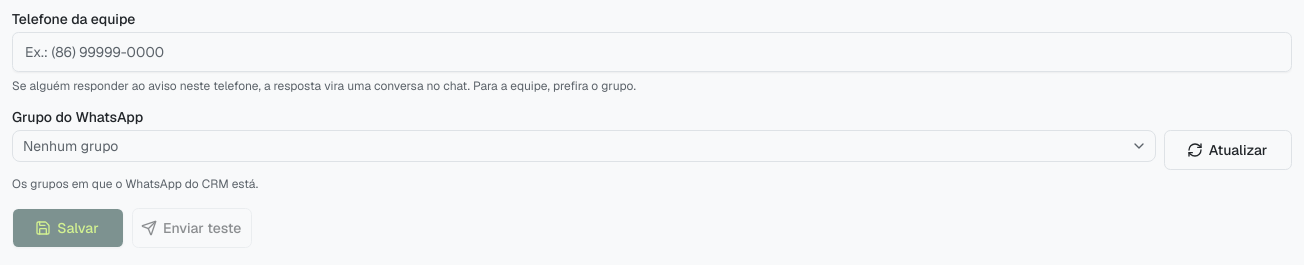
it: HandoffAlertSettings › telefone inválido: avisa e não deixa salvar
This screenshot has width=1304, height=265.
Step 1. Type "9999" into the field labelled "Telefone da equipe" → (652,52), box [12,32,1292,72]
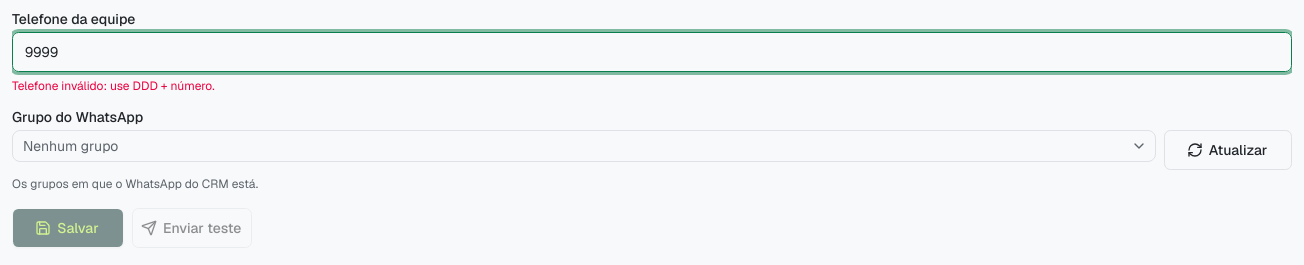
Expected: the button "Salvar" is disabled, [12,208,124,248]
Result: the text "Telefone inválido: use DDD + número." is shown at [12,78,215,94]
